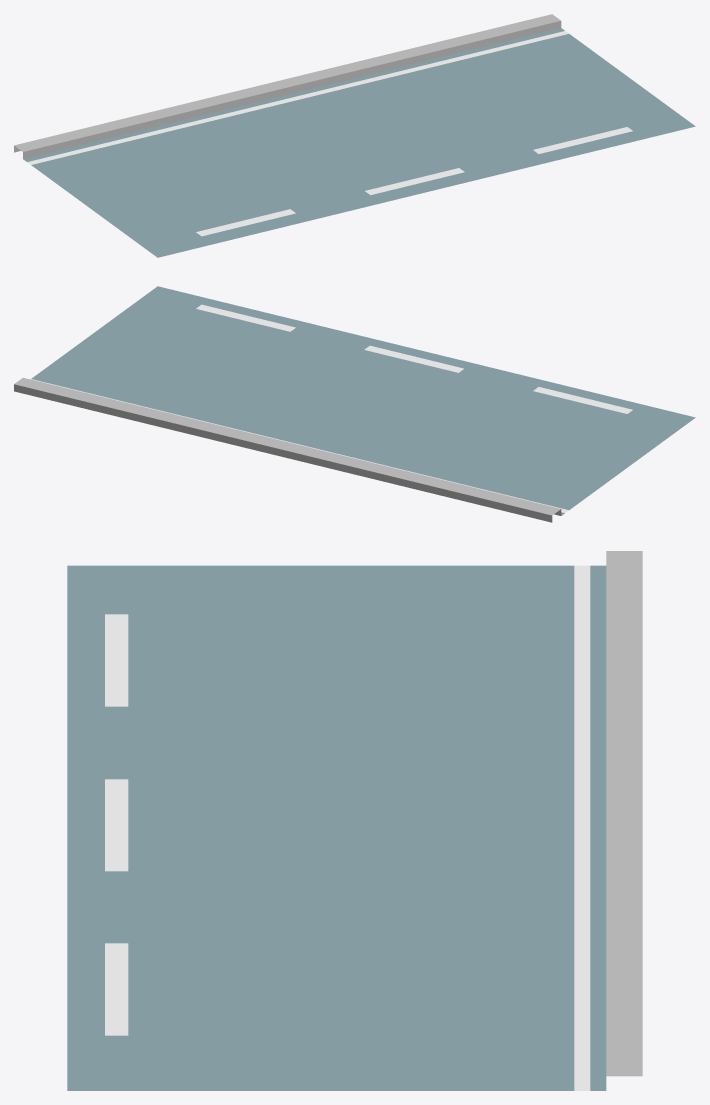
File: Map02_Decor_Duong.fbx
3 views of the same model, one above another, from view 1: azimuth 30°, elevation 25°; view 2: azimuth 150°, elevation 25°; view 3: azimuth 270°, elevation 25° (orthographic). The views are drawn at different scales.
Parts seen in each view (by area): view 1: Map02_Decor_Duong; view 2: Map02_Decor_Duong; view 3: Map02_Decor_Duong.
Part boxes in pixels (x1,y1,x2,y2): Map02_Decor_Duong: (14, 14, 695, 257); Map02_Decor_Duong: (14, 286, 695, 522); Map02_Decor_Duong: (67, 551, 642, 1090).
Bounding box in the file's own units: 3689 × 47.07 × 1707.
